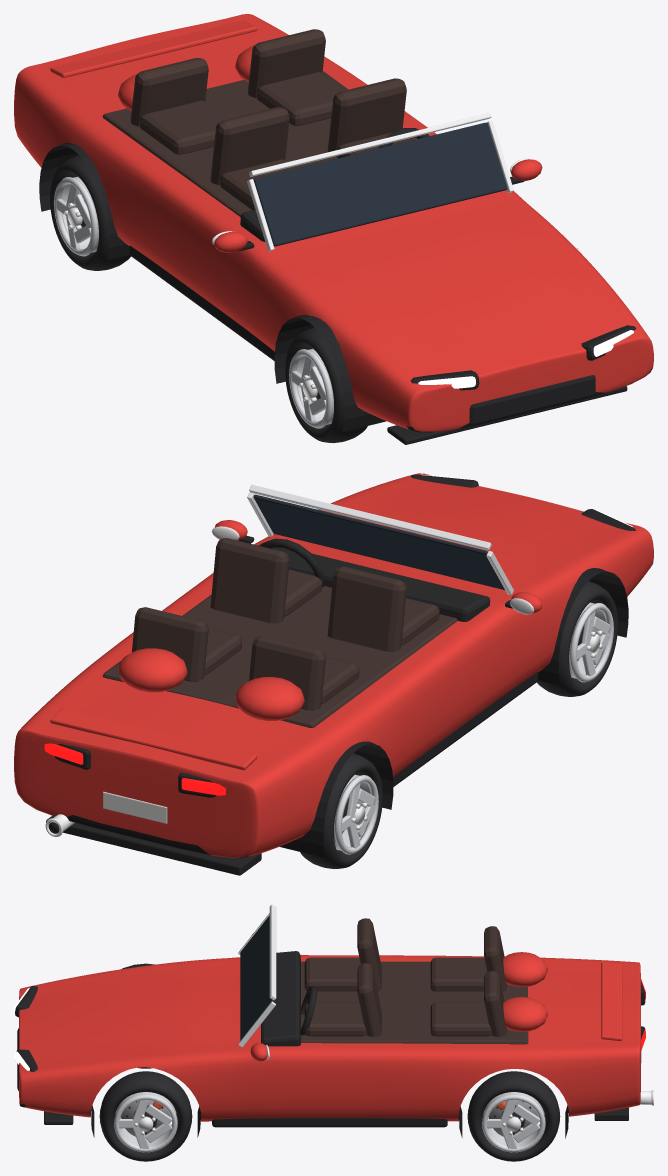
The model's file is zephyra_mid.glb.
The picture shows the model from 3 angles, top to bottom: view 1: azimuth 30°, elevation 25°; view 2: azimuth 150°, elevation 25°; view 3: azimuth 270°, elevation 25°; orthographic projection. The views are drawn at different scales.
Parts seen in each view (by area): view 1: body, wheel_fr, wheel_rr; view 2: body, wheel_rr, wheel_fr; view 3: body, wheel_rl, wheel_fl.
Part boxes in pixels (x1=…): body: x1=14, y1=14, x2=653, y2=444; wheel_fr: x1=285, y1=327, x2=367, y2=443; wheel_rr: x1=50, y1=155, x2=130, y2=270; body: x1=14, y1=473, x2=653, y2=875; wheel_rr: x1=300, y1=753, x2=382, y2=868; wheel_fr: x1=537, y1=581, x2=617, y2=696; body: x1=14, y1=904, x2=653, y2=1138; wheel_rl: x1=467, y1=1071, x2=560, y2=1161; wheel_fl: x1=99, y1=1071, x2=192, y2=1161.
Size of the model in its own units: 2.23 by 1.35 by 4.84.
